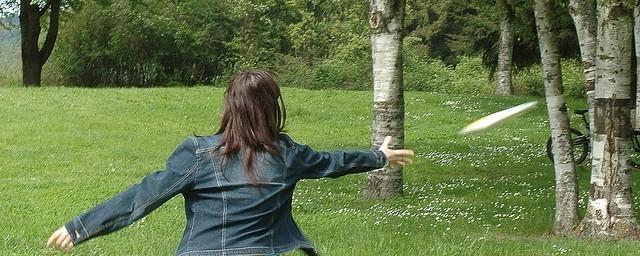bicycle: (547, 104, 640, 169)
